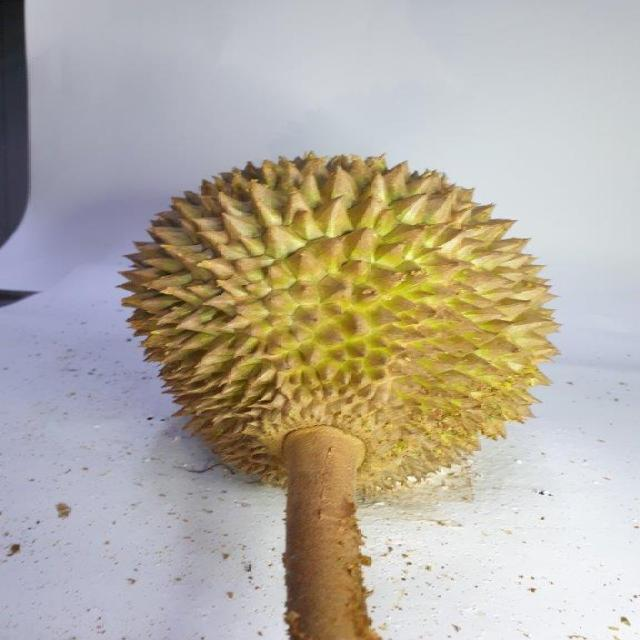mature: (123, 158, 557, 500)
